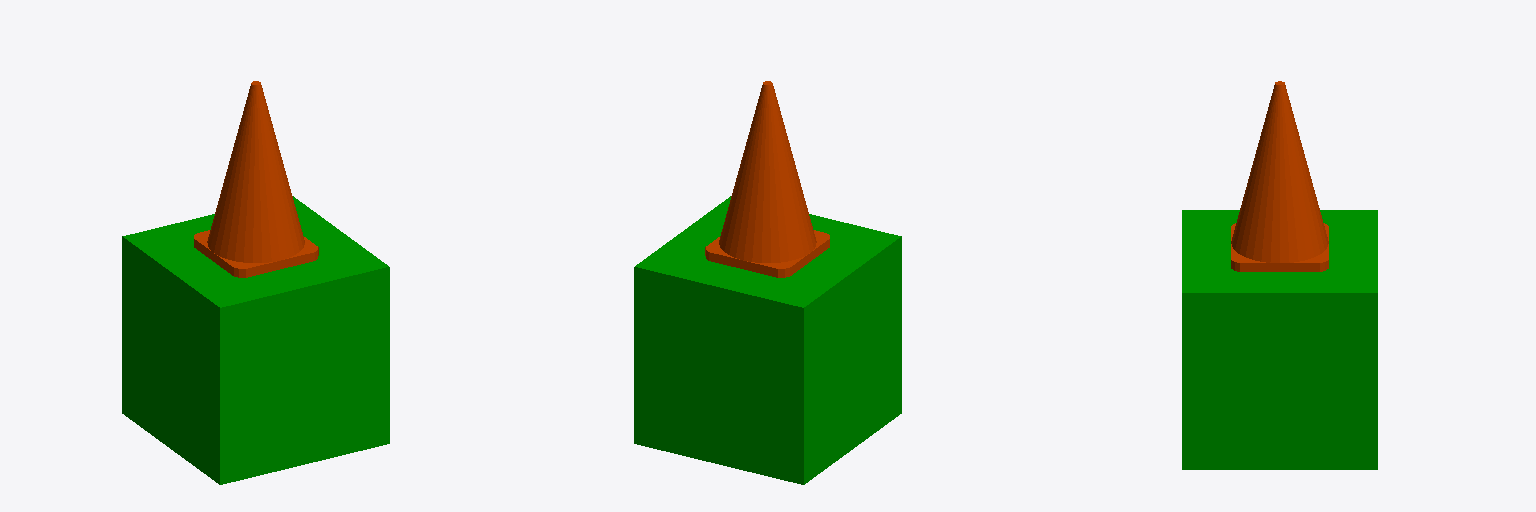
The model's file is Cone1Orange.obj.
The picture shows the model from 3 angles: view 1: azimuth 30°, elevation 25°; view 2: azimuth 150°, elevation 25°; view 3: azimuth 270°, elevation 25°; orthographic projection.
Parts seen in each view (by area): view 1: Cube; view 2: Cube; view 3: Cube.
Part boxes in pixels (bbox=[...]): Cube: bbox=[122, 81, 389, 484]; Cube: bbox=[634, 81, 901, 484]; Cube: bbox=[1182, 81, 1377, 469].
Size of the model in its own units: 2 by 3.9 by 2.